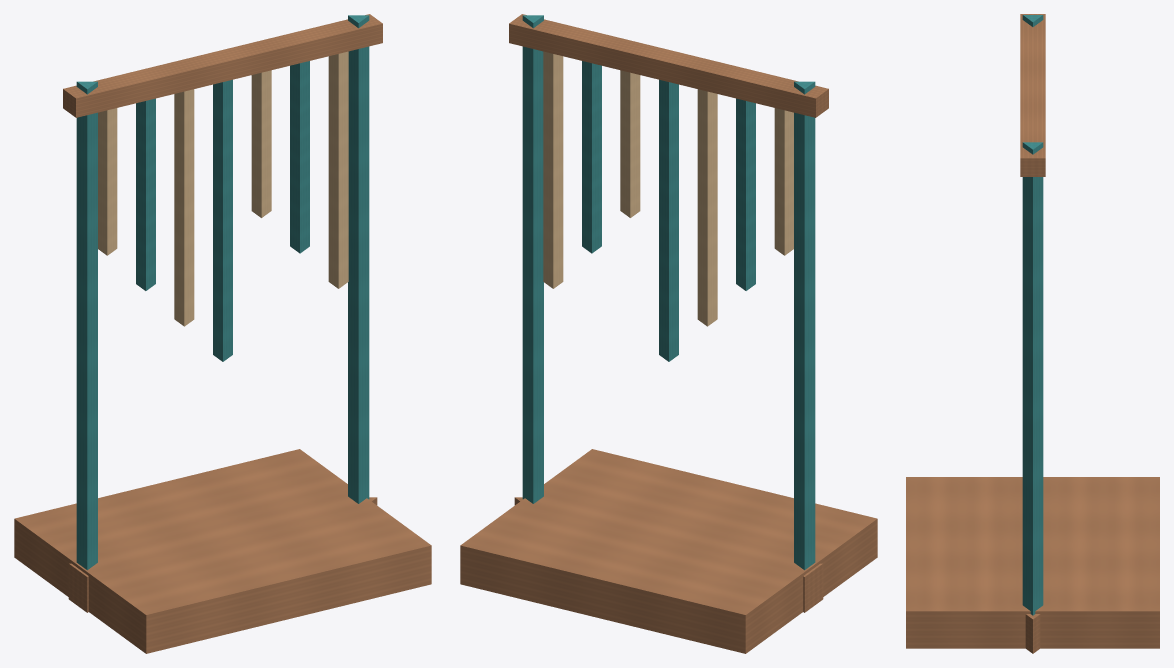
Rendered from atlas100-s099-a01.lod2.glb.
3 views of the same model, side by side, from view 1: azimuth 30°, elevation 25°; view 2: azimuth 150°, elevation 25°; view 3: azimuth 270°, elevation 25° (orthographic). The views are drawn at different scales.
Visible parts, largest first — view 1: atlas100-s099-a01:part-000, atlas100-s099-a01:part-005, atlas100-s099-a01:part-003, atlas100-s099-a01:part-007, atlas100-s099-a01:part-011, atlas100-s099-a01:part-010, atlas100-s099-a01:part-014, atlas100-s099-a01:part-009, atlas100-s099-a01:part-013, atlas100-s099-a01:part-012, atlas100-s099-a01:part-008, atlas100-s099-a01:part-004; view 2: atlas100-s099-a01:part-000, atlas100-s099-a01:part-005, atlas100-s099-a01:part-003, atlas100-s099-a01:part-007, atlas100-s099-a01:part-011, atlas100-s099-a01:part-010, atlas100-s099-a01:part-014, atlas100-s099-a01:part-009, atlas100-s099-a01:part-013, atlas100-s099-a01:part-012, atlas100-s099-a01:part-008, atlas100-s099-a01:part-004; view 3: atlas100-s099-a01:part-000, atlas100-s099-a01:part-005, atlas100-s099-a01:part-007, atlas100-s099-a01:part-006.
Part boxes in pixels (x1,y1,x2,y2): atlas100-s099-a01:part-000: (14, 449, 431, 653); atlas100-s099-a01:part-005: (348, 15, 369, 503); atlas100-s099-a01:part-003: (76, 81, 97, 570); atlas100-s099-a01:part-007: (63, 14, 382, 117); atlas100-s099-a01:part-011: (213, 79, 232, 361); atlas100-s099-a01:part-010: (174, 89, 194, 326); atlas100-s099-a01:part-014: (328, 51, 348, 288); atlas100-s099-a01:part-009: (136, 98, 155, 290); atlas100-s099-a01:part-013: (290, 61, 309, 253); atlas100-s099-a01:part-012: (251, 70, 271, 217); atlas100-s099-a01:part-008: (98, 108, 117, 255); atlas100-s099-a01:part-004: (68, 563, 88, 612); atlas100-s099-a01:part-000: (460, 449, 877, 653); atlas100-s099-a01:part-005: (522, 15, 543, 503); atlas100-s099-a01:part-003: (794, 81, 815, 570); atlas100-s099-a01:part-007: (509, 14, 828, 117); atlas100-s099-a01:part-011: (659, 79, 678, 361); atlas100-s099-a01:part-010: (697, 89, 717, 326); atlas100-s099-a01:part-014: (543, 51, 563, 288); atlas100-s099-a01:part-009: (736, 98, 755, 290); atlas100-s099-a01:part-013: (582, 61, 601, 253); atlas100-s099-a01:part-012: (620, 70, 640, 217); atlas100-s099-a01:part-008: (774, 108, 793, 255); atlas100-s099-a01:part-004: (803, 563, 823, 612); atlas100-s099-a01:part-000: (906, 477, 1159, 648); atlas100-s099-a01:part-005: (1022, 142, 1043, 615); atlas100-s099-a01:part-007: (1020, 14, 1045, 176); atlas100-s099-a01:part-006: (1025, 614, 1040, 653).
Bounding box in the file's own units: 2.16 × 3.48 × 1.6.
Materials: 3 (3 with a texture image).
